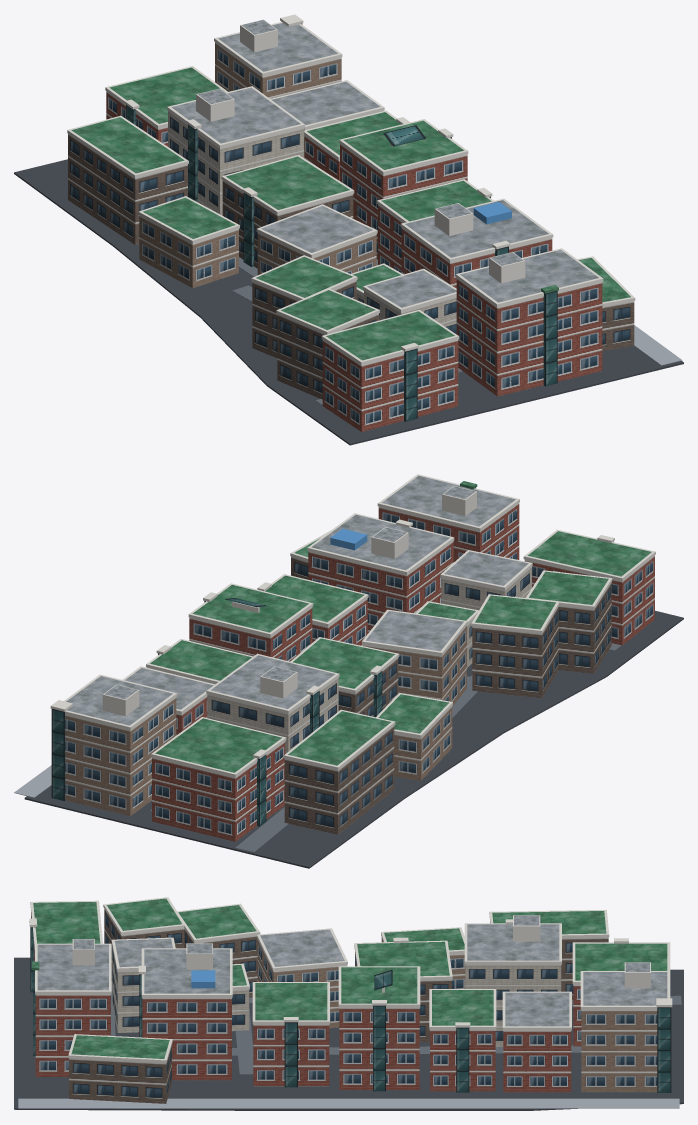
Rendered from place_신기한나라라운지.glb.
3 renders of one model, top to bottom at view 1: azimuth 30°, elevation 25°; view 2: azimuth 150°, elevation 25°; view 3: azimuth 270°, elevation 25°, orthographic. The views are drawn at different scales.
Visible parts, largest first — view 1: Merged_RedBrick (×3), Merged_GreenRoof (×3), Merged_GreyRoof (×3), Merged_Parapet (×3), Merged_BrownBrick (×3), Merged_Env_AsphaltBase, Merged_TaupeBrick (×2), Merged_BeigeStone (×2), Merged_StairGlass (×3), Merged_Env_EastBorder; view 2: Merged_GreenRoof (×3), Merged_RedBrick (×3), Merged_BrownBrick (×3), Merged_GreyRoof (×3), Merged_Parapet (×3), Merged_TaupeBrick (×2), Merged_Env_AsphaltBase, Merged_BeigeStone (×2), Merged_StairGlass, Merged_Env_Alleys, Merged_Env_EastBorder; view 3: Merged_RedBrick (×3), Merged_GreenRoof (×3), Merged_GreyRoof (×3), Merged_Env_AsphaltBase, Merged_Parapet (×3), Merged_TaupeBrick (×2), Merged_BrownBrick (×3), Merged_Env_EastBorder, Merged_BeigeStone (×2), Merged_StairGlass (×3), Merged_Env_Alleys, Merged_SkyBlueAccent.
Part boxes in pixels (x1,y1,x2,y2): Merged_RedBrick (×3): (106, 91, 602, 431); Merged_GreenRoof (×3): (71, 67, 630, 360); Merged_GreyRoof (×3): (171, 20, 598, 307); Merged_Parapet (×3): (67, 14, 635, 365); Merged_BrownBrick (×3): (68, 134, 634, 399); Merged_Env_AsphaltBase: (14, 159, 683, 445); Merged_TaupeBrick (×2): (139, 42, 376, 288); Merged_BeigeStone (×2): (168, 110, 456, 334); Merged_StairGlass (×3): (126, 23, 557, 421); Merged_Env_EastBorder: (634, 325, 682, 365); Merged_GreenRoof (×3): (150, 481, 651, 772); Merged_RedBrick (×3): (147, 503, 654, 841); Merged_BrownBrick (×3): (284, 556, 611, 834); Merged_GreyRoof (×3): (66, 475, 528, 725); Merged_Parapet (×3): (50, 474, 655, 777); Merged_TaupeBrick (×2): (65, 625, 466, 816); Merged_Env_AsphaltBase: (24, 610, 683, 868); Merged_BeigeStone (×2): (207, 567, 531, 753); Merged_StairGlass: (51, 653, 319, 826); Merged_Env_Alleys: (150, 643, 621, 852); Merged_Env_EastBorder: (14, 765, 51, 797); Merged_RedBrick (×3): (31, 912, 581, 1092); Merged_GreenRoof (×3): (32, 898, 667, 1058); Merged_GreyRoof (×3): (37, 915, 667, 1026); Merged_Env_AsphaltBase: (14, 957, 683, 1110); Merged_Parapet (×3): (29, 897, 672, 1063); Merged_TaupeBrick (×2): (257, 937, 657, 1092); Merged_BrownBrick (×3): (69, 909, 608, 1103); Merged_Env_EastBorder: (18, 1098, 679, 1108); Merged_BeigeStone (×2): (112, 947, 561, 1046); Merged_StairGlass (×3): (30, 927, 671, 1092); Merged_Env_Alleys: (111, 981, 681, 1074); Merged_SkyBlueAccent: (191, 970, 215, 988).
Bounding box in the file's own units: 45 × 14.15 × 83.6.
Materials: 12 (7 with a texture image).
